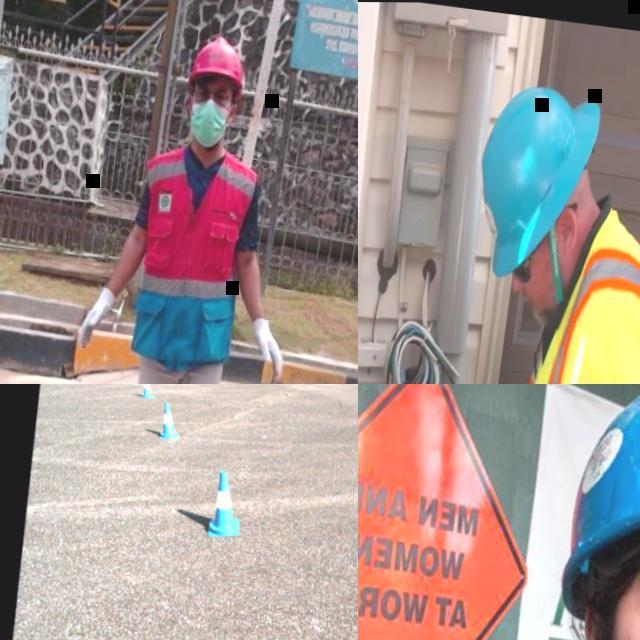helmet: (466, 80, 602, 290), (549, 384, 640, 640), (185, 33, 251, 86)
vest: (484, 193, 640, 384), (129, 138, 262, 308)
